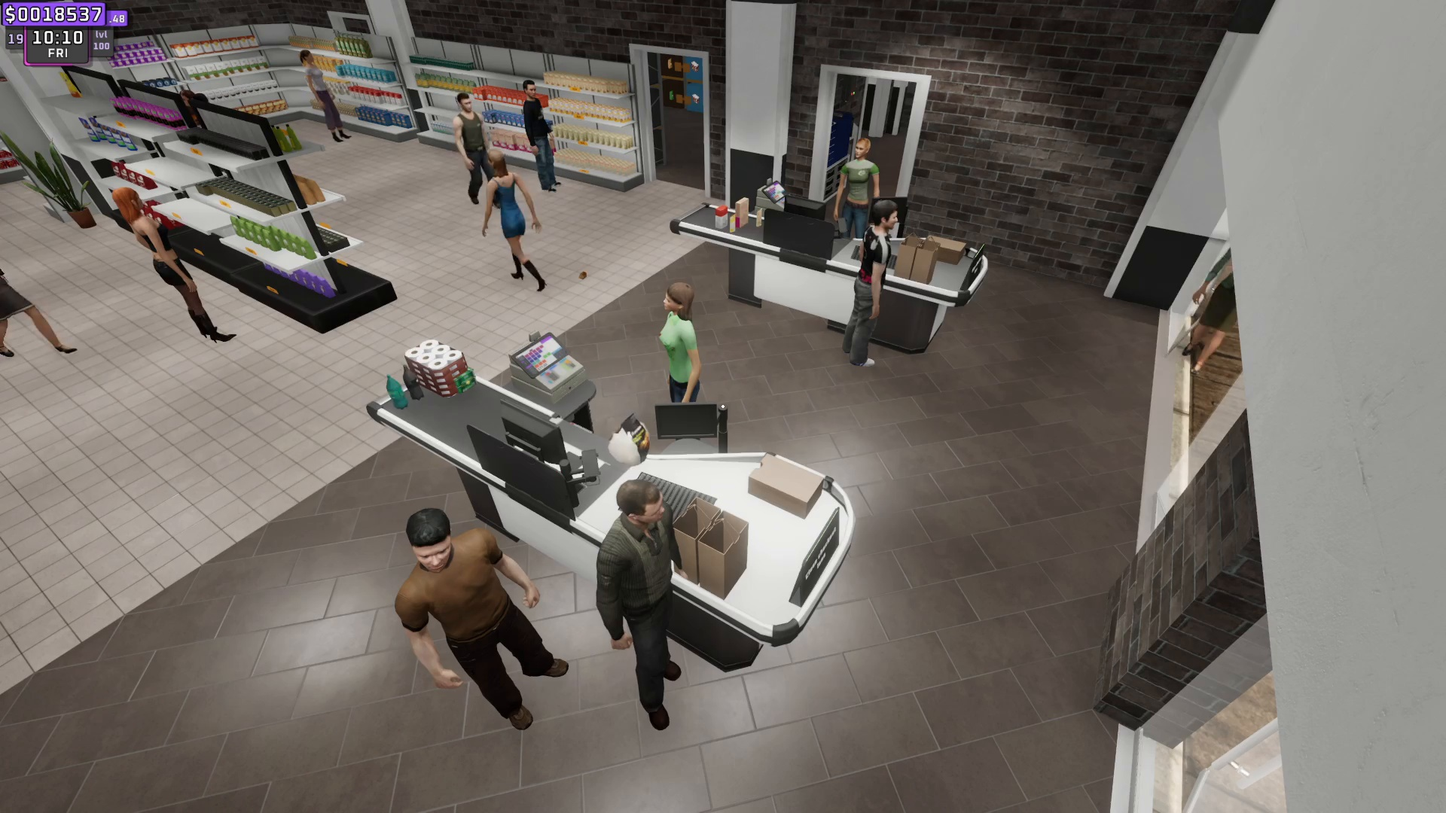Client: (386, 504, 561, 718), (587, 472, 695, 721), (855, 200, 901, 373)
Employee: (658, 284, 703, 399), (842, 136, 878, 226)
